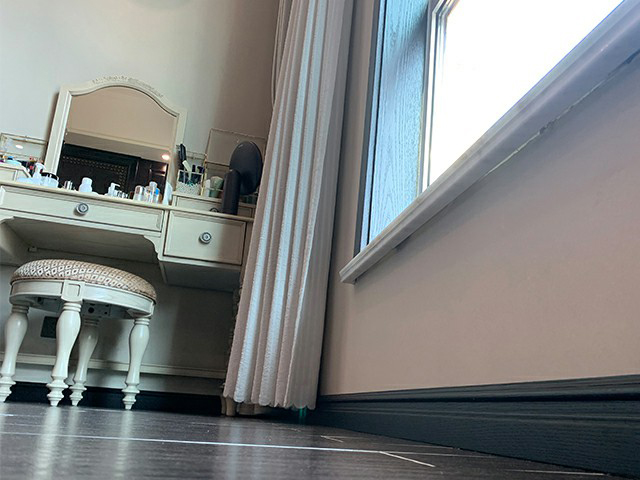curtain: (219, 1, 353, 418)
stool: (1, 258, 158, 411)
table: (1, 73, 269, 417)
